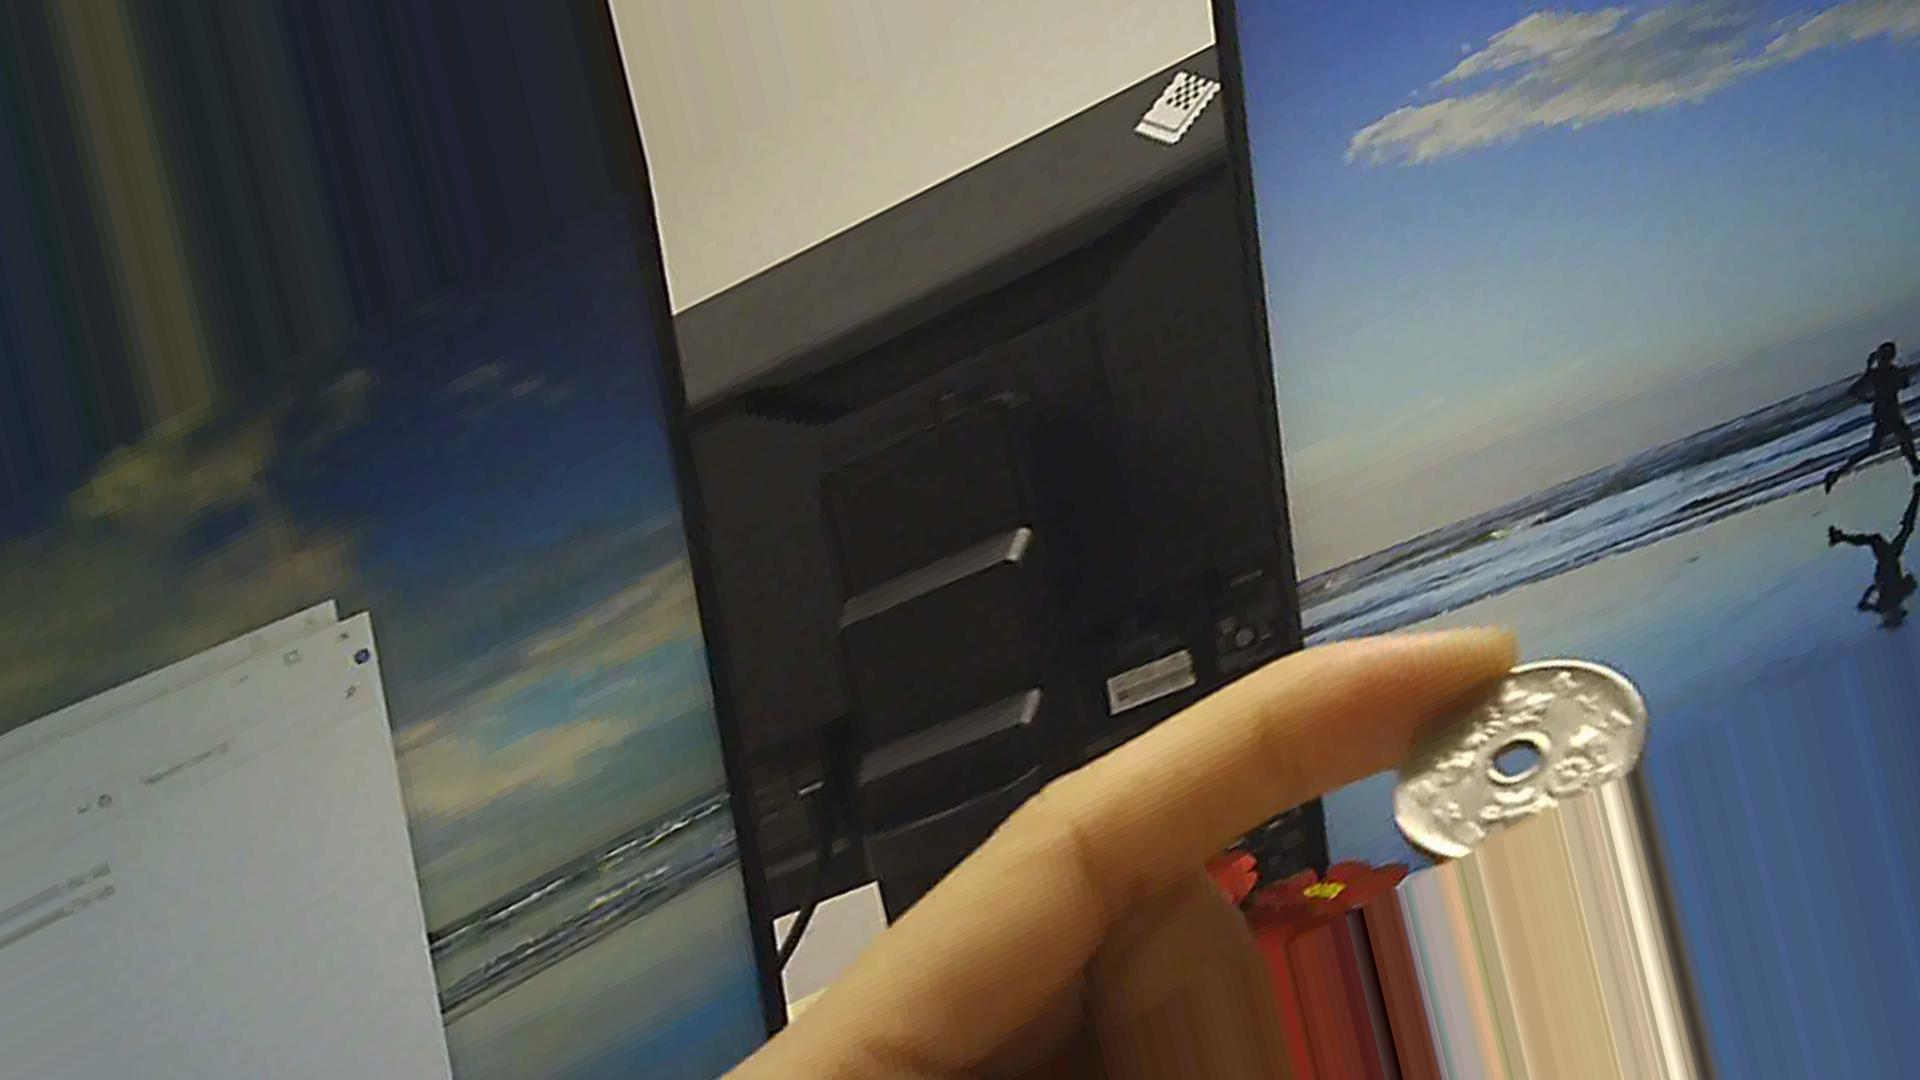50 Yen: (1382, 622, 1644, 852)
